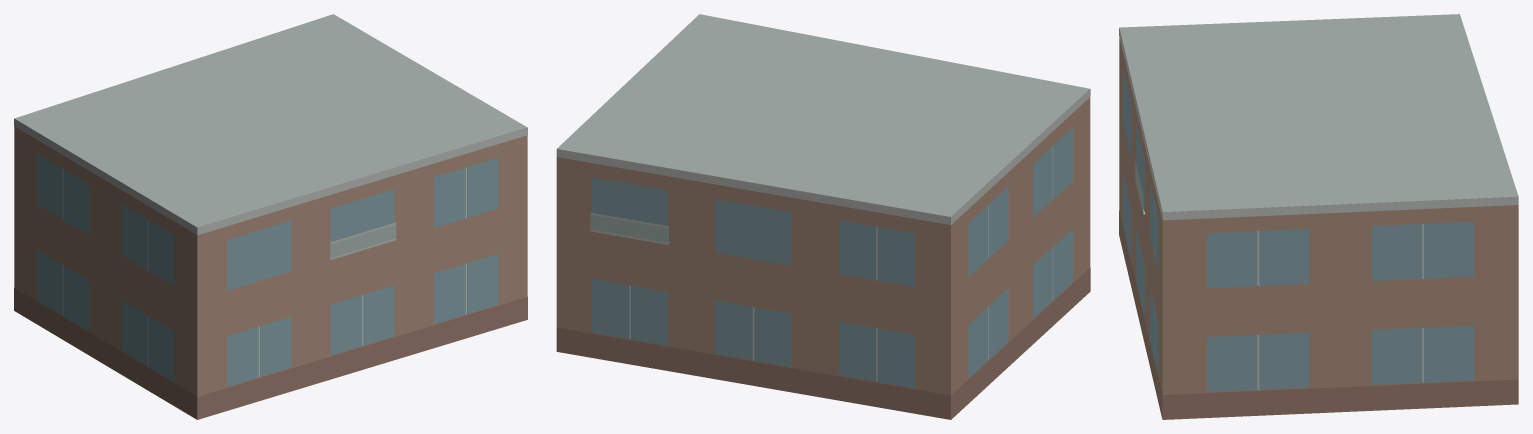
Rendered from survey-upis-32788763.glb.
3 views of the same model, side by side, from view 1: azimuth 30°, elevation 25°; view 2: azimuth 150°, elevation 25°; view 3: azimuth 270°, elevation 25° (orthographic). The views are drawn at different scales.
Visible parts, largest first — view 1: survey-upis-32788763.tmp; view 2: survey-upis-32788763.tmp; view 3: survey-upis-32788763.tmp.
Part boxes in pixels (x1,y1,x2,y2): survey-upis-32788763.tmp: [14, 14, 527, 419]; survey-upis-32788763.tmp: [556, 14, 1090, 419]; survey-upis-32788763.tmp: [1119, 14, 1518, 419].
Bounding box in the file's own units: 12.49 × 6.1 × 10.64.
